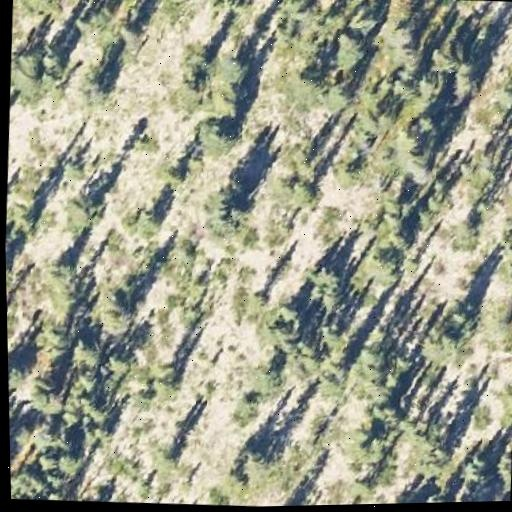tree-top: (8, 42, 74, 115), (89, 284, 143, 340), (203, 183, 255, 238), (38, 256, 88, 312), (58, 185, 109, 237), (416, 320, 466, 365), (260, 308, 311, 352), (73, 63, 118, 111), (326, 28, 370, 76), (307, 255, 351, 299), (363, 244, 408, 287), (194, 114, 240, 156), (287, 67, 327, 108), (218, 50, 258, 91), (458, 453, 498, 493), (450, 57, 487, 100), (237, 441, 277, 480), (247, 360, 288, 398), (351, 342, 385, 386), (51, 448, 87, 485), (149, 440, 185, 476), (17, 462, 53, 498), (449, 216, 484, 253), (131, 203, 166, 240), (69, 334, 103, 370), (285, 176, 322, 209), (409, 107, 442, 142), (486, 300, 512, 340), (371, 399, 400, 434), (408, 153, 439, 184), (29, 377, 56, 412), (13, 204, 41, 235), (398, 50, 427, 79), (387, 20, 417, 48), (82, 397, 112, 424), (116, 17, 142, 44), (494, 76, 512, 111), (162, 161, 183, 190), (349, 474, 370, 499), (16, 0, 53, 12), (423, 489, 449, 503), (9, 398, 17, 437), (6, 252, 15, 280)
